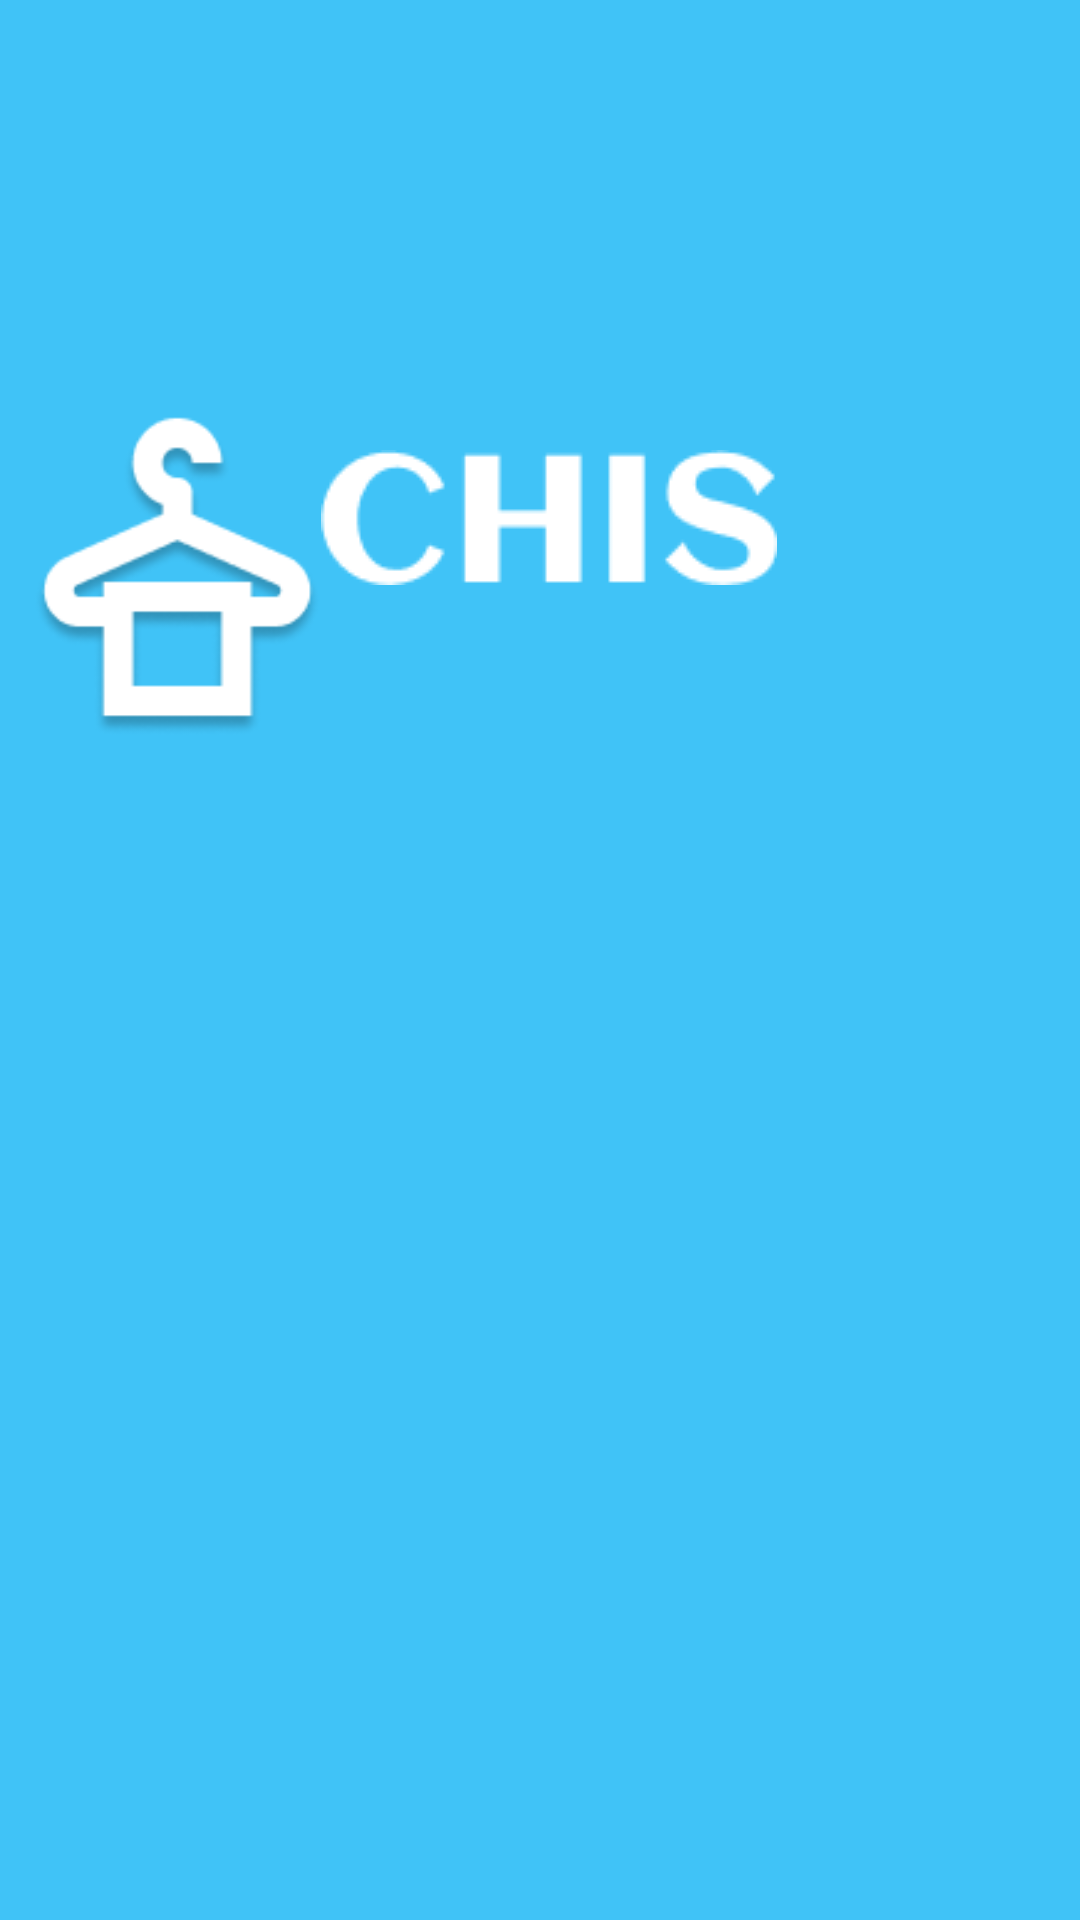

Point at icon controls on the screen. Image size 1080px x 1920px, points as [x,y].
dry cleaning: [177,572]
